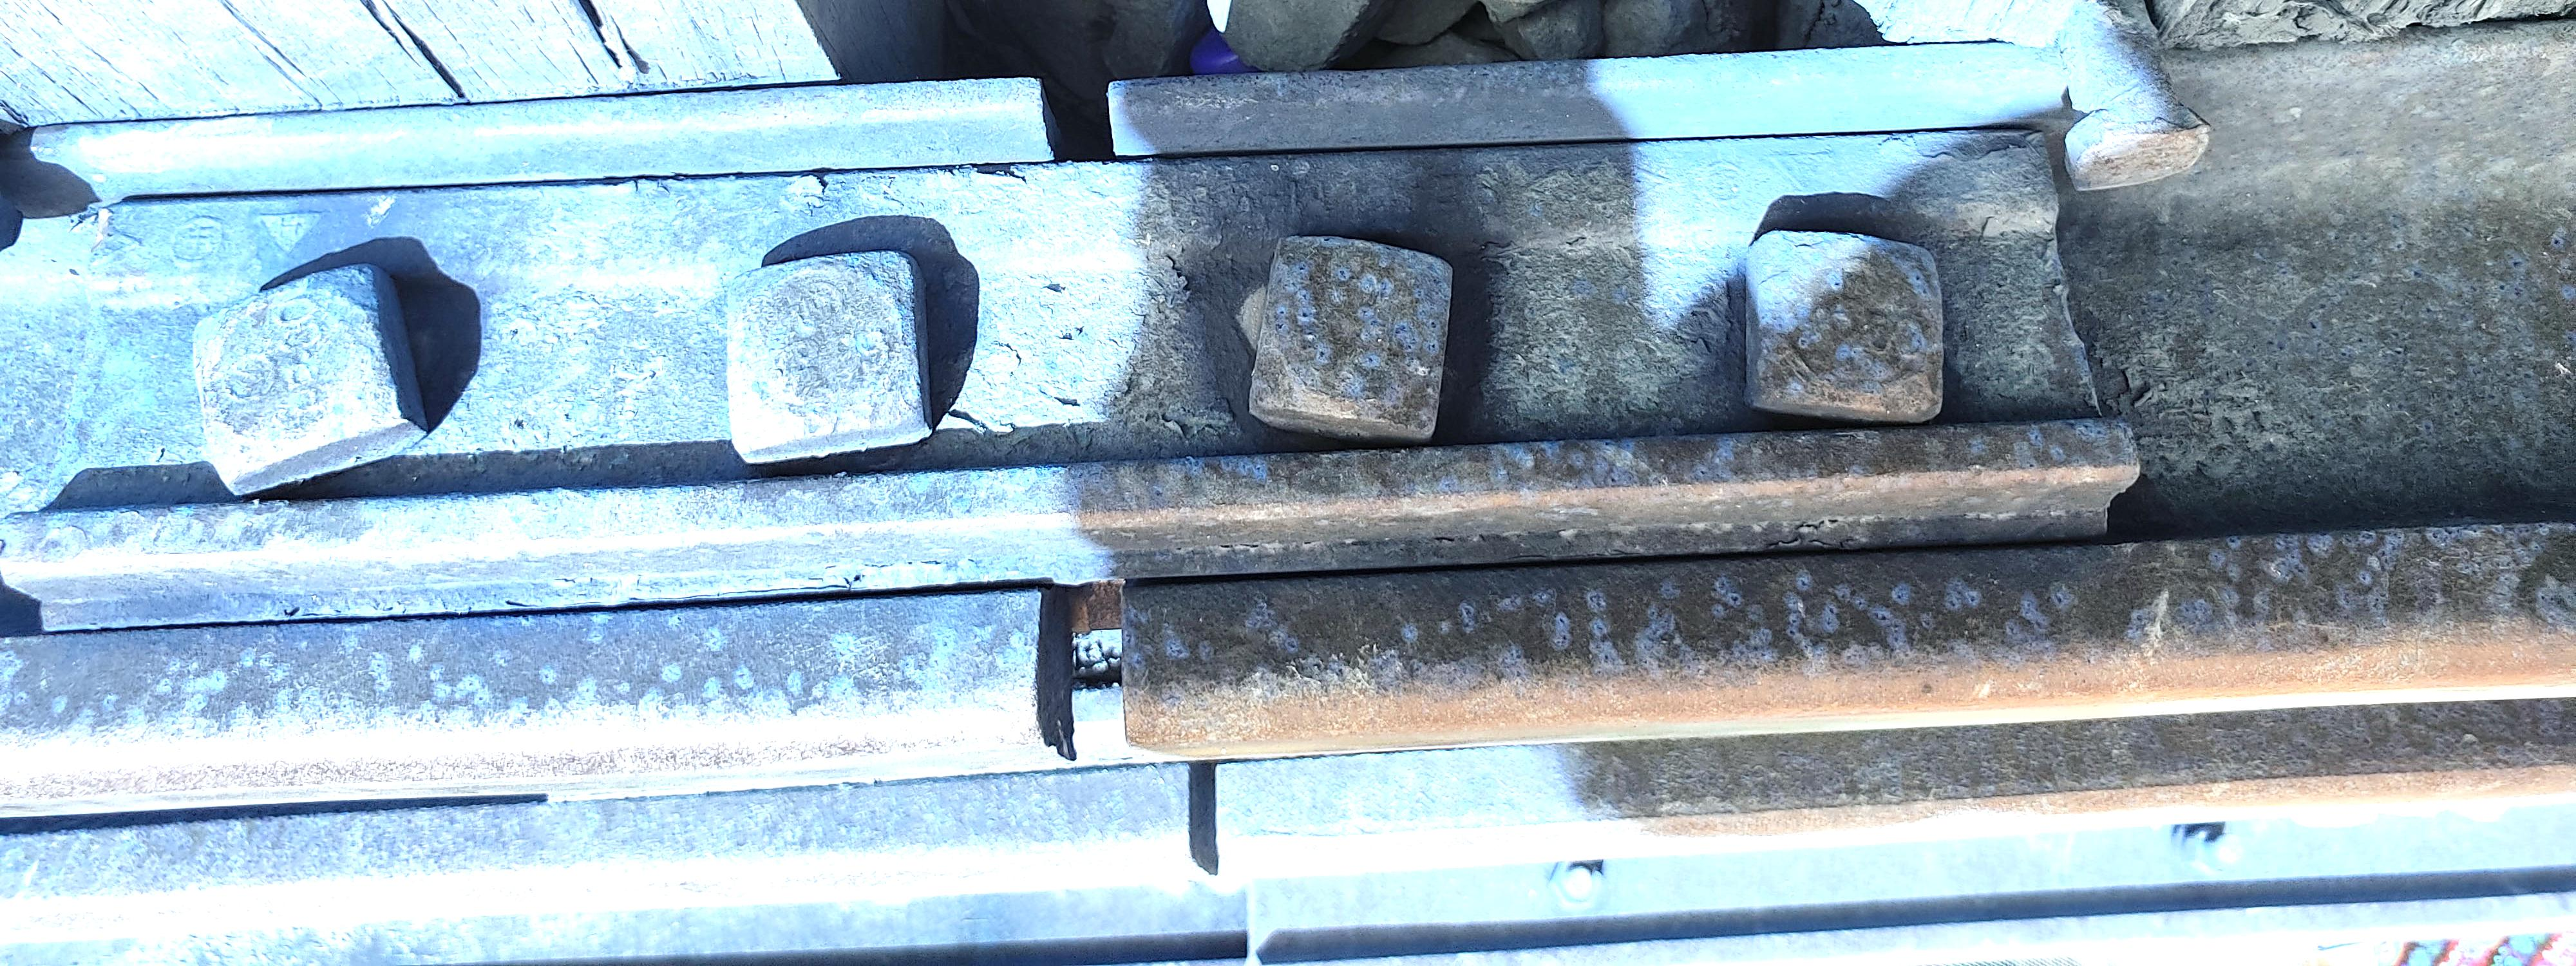error2: (1000, 521, 1198, 807), (1009, 26, 1176, 204)
